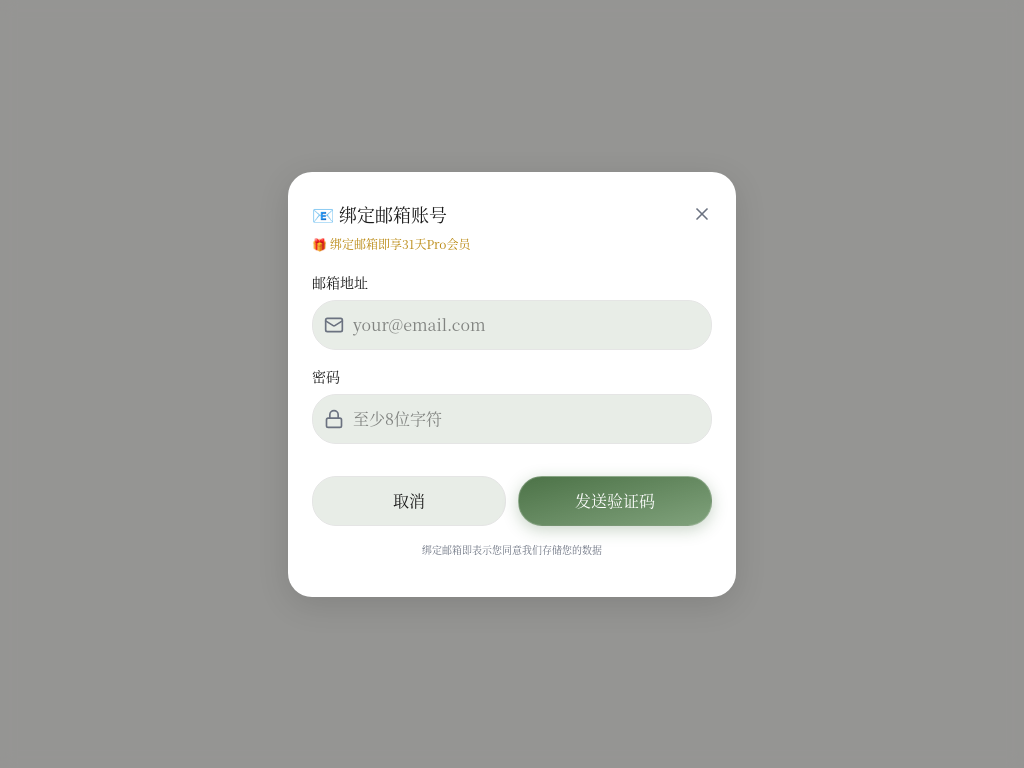
Test: AuthModal — 注册步骤 1 → 步骤 2 流转 › 合法密码 + fetch 成功 → 切换到验证码输入步骤
Type "test@test.com" into the field with placeholder "your@email.com".
click(512, 324); type("test@test.com")  # box x1=312 y1=300 x2=712 y2=350
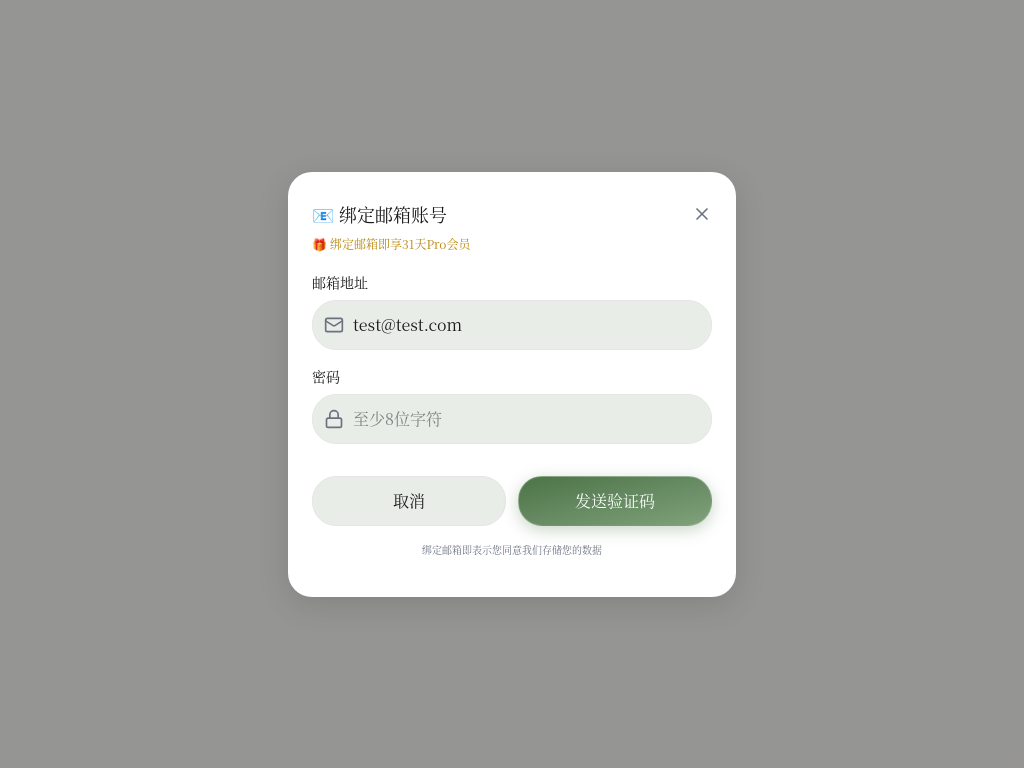
Type "Abcd1234" into the password field with placeholder "至少8位字符".
click(512, 418); type("Abcd1234")  # box x1=312 y1=394 x2=712 y2=444
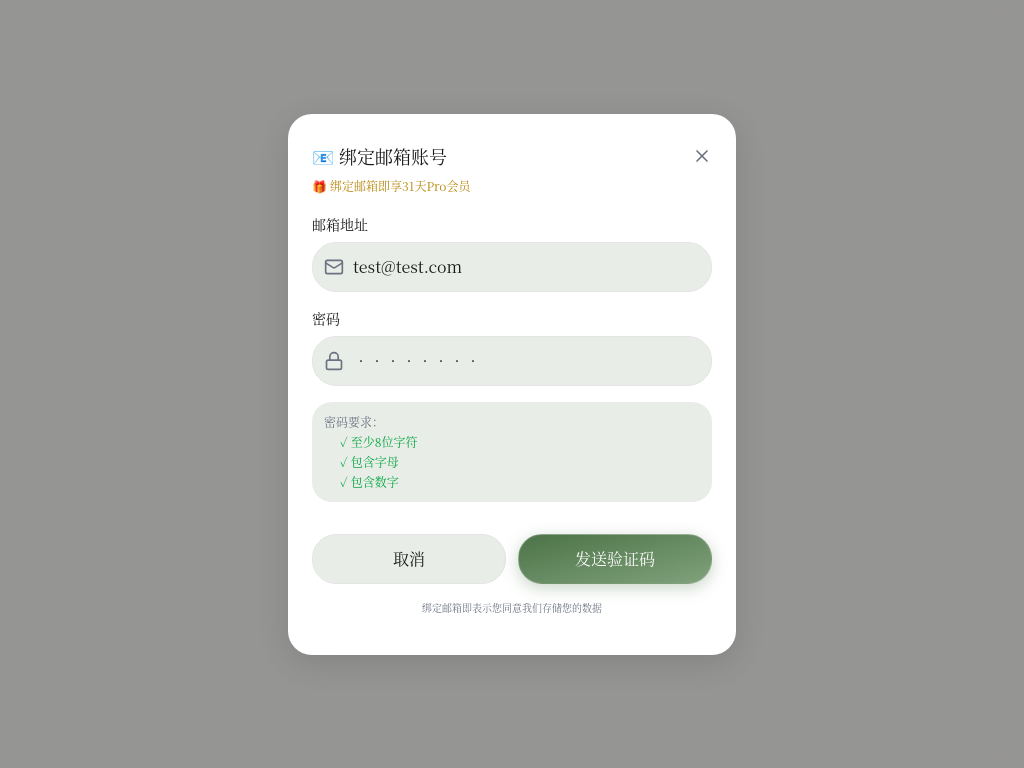
Click the button "发送验证码".
click(615, 558)  # box x1=518 y1=534 x2=712 y2=584
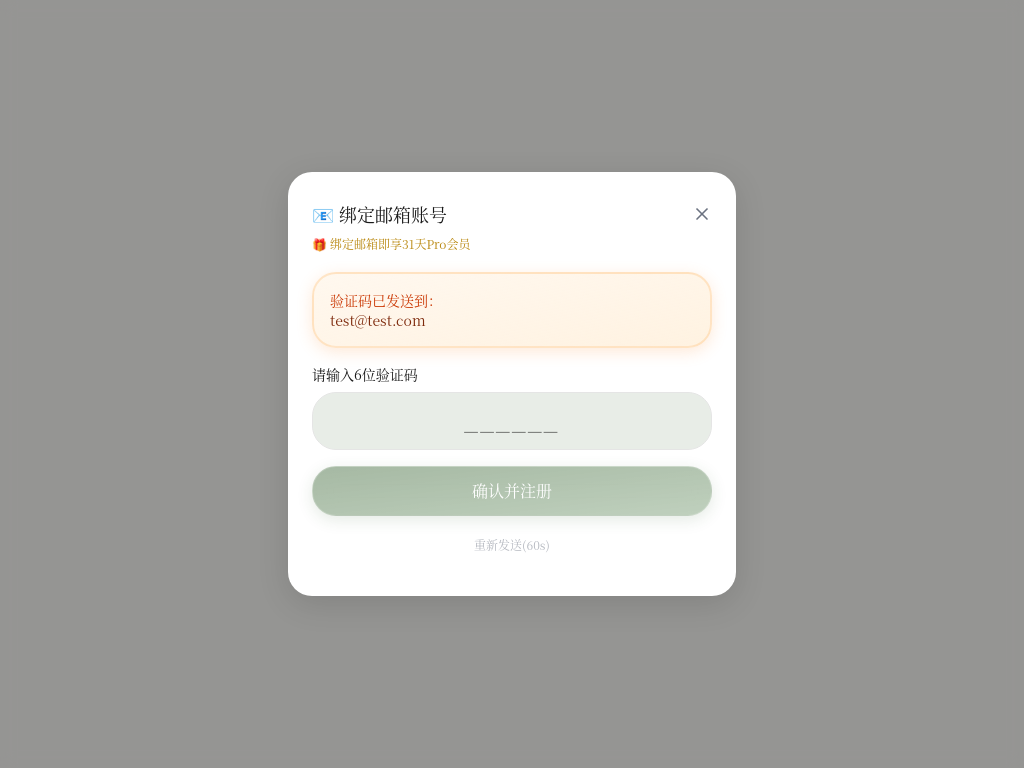
Expected: the button "确认并注册" is shown, x1=312 y1=466 x2=712 y2=516
